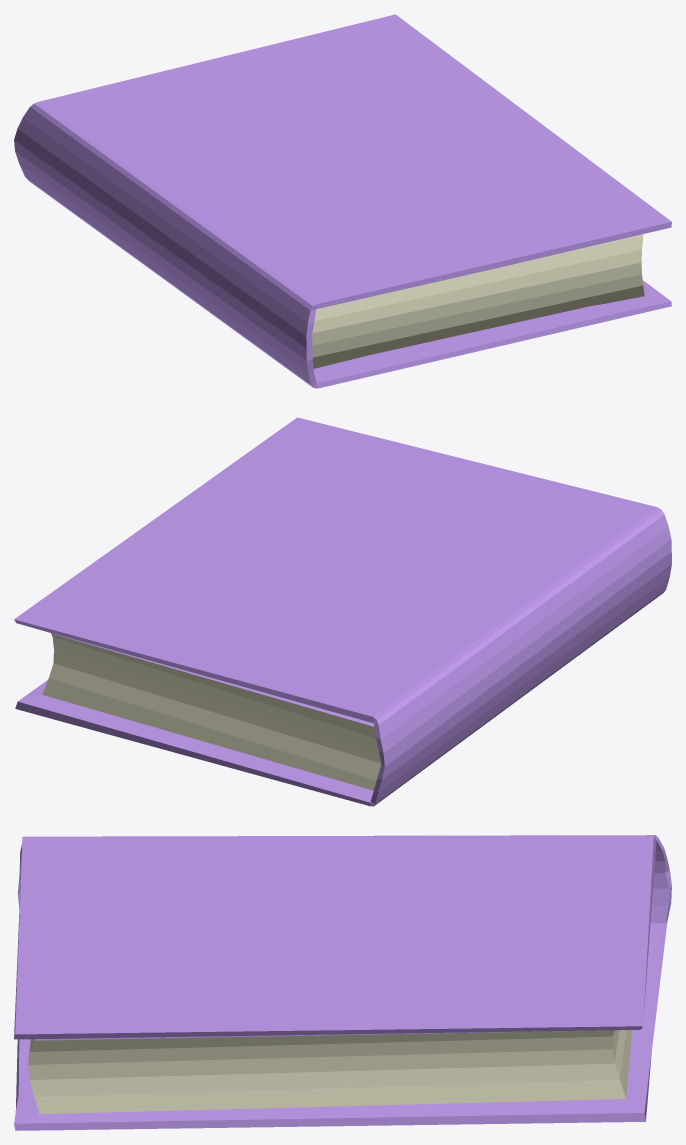
Rendered from BookPastelPurple.fbx.
The picture shows the model from 3 angles, top to bottom: view 1: azimuth 30°, elevation 25°; view 2: azimuth 150°, elevation 25°; view 3: azimuth 270°, elevation 25°; orthographic projection. The views are drawn at different scales.
Visible parts, largest first — view 1: Cube; view 2: Cube; view 3: Cube.
Part boxes in pixels (bbox=[...]): Cube: bbox=[14, 14, 671, 388]; Cube: bbox=[14, 417, 671, 806]; Cube: bbox=[14, 835, 671, 1130].
Size of the model in its own units: 182 by 42.66 by 245.
